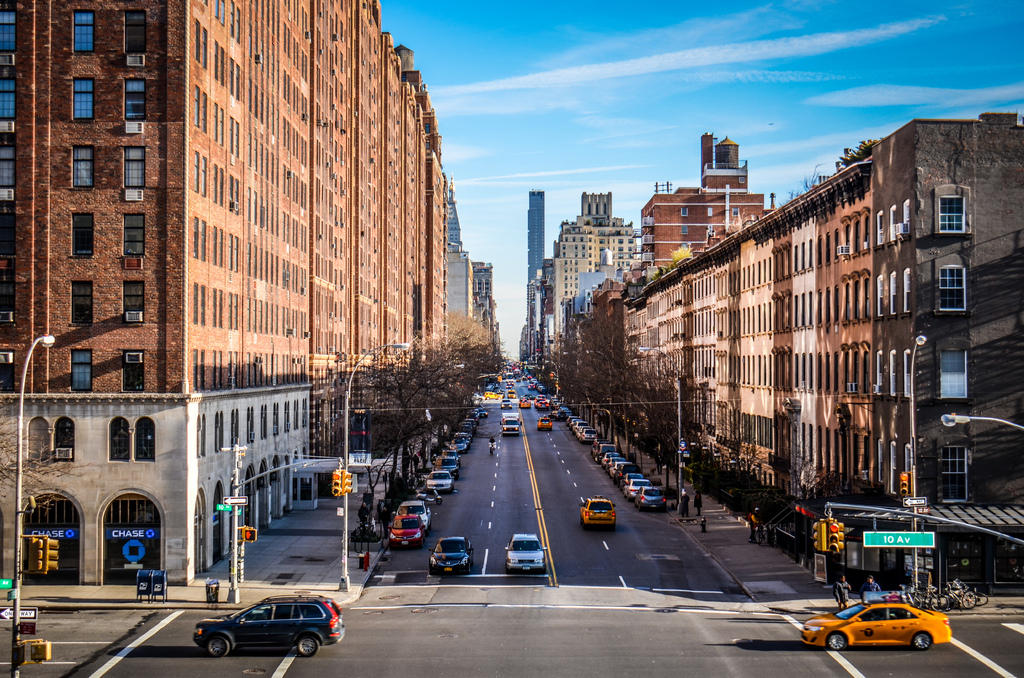car: (189, 590, 361, 667), (788, 589, 960, 655), (427, 530, 480, 587), (503, 529, 558, 582), (575, 489, 618, 534), (388, 509, 428, 555), (421, 464, 459, 496), (637, 484, 672, 513), (534, 415, 555, 430)
truck: (494, 409, 529, 442)
